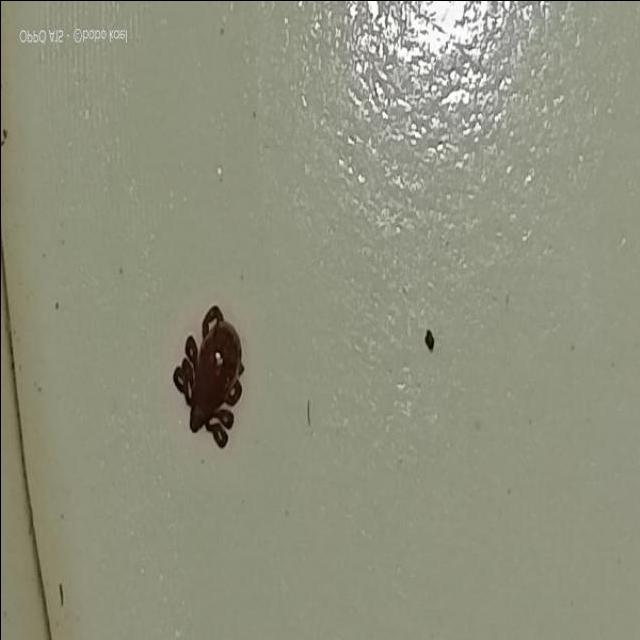Rhipicephalus Sanguineus-M: (172, 305, 243, 448)
